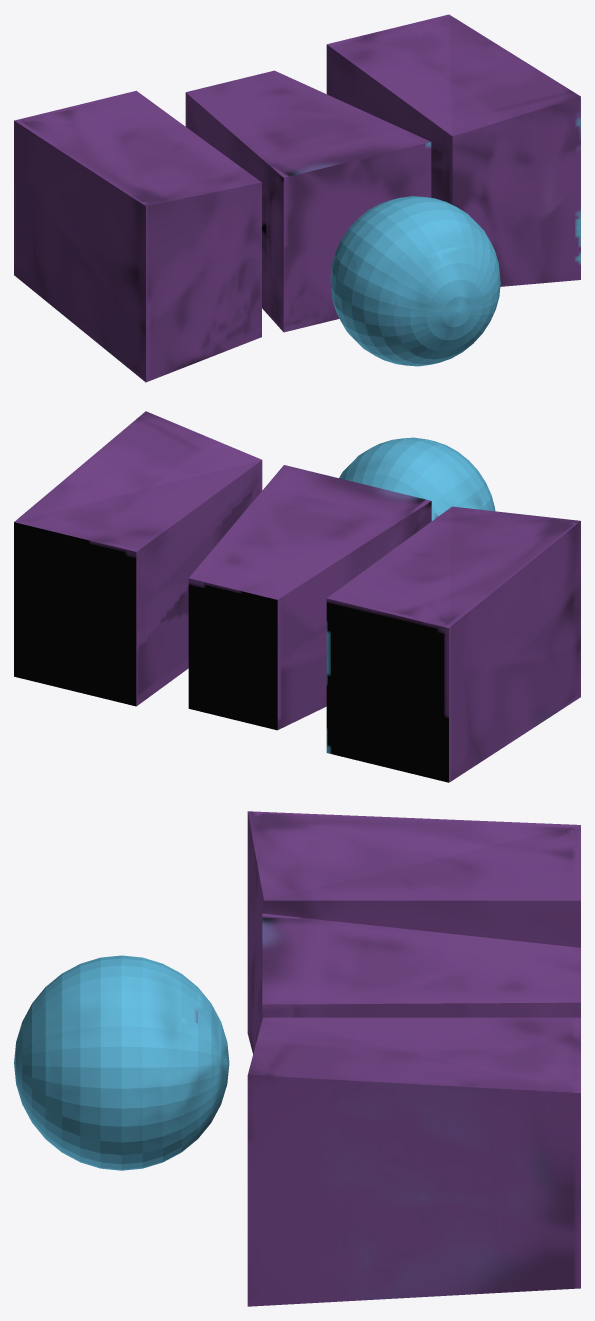
File: icemobile.obj
3 views of the same model, one above another, from view 1: azimuth 30°, elevation 25°; view 2: azimuth 150°, elevation 25°; view 3: azimuth 270°, elevation 25° (orthographic). The views are drawn at different scales.
Parts seen in each view (by area): view 1: Sphere_Sphere.001; view 2: Sphere_Sphere.001; view 3: Sphere_Sphere.001.
Part boxes in pixels (bbox=[...]): Sphere_Sphere.001: bbox=[14, 14, 580, 382]; Sphere_Sphere.001: bbox=[14, 411, 580, 782]; Sphere_Sphere.001: bbox=[14, 811, 580, 1306].
Bounding box in the file's own units: 5.89 × 2.37 × 5.26.
